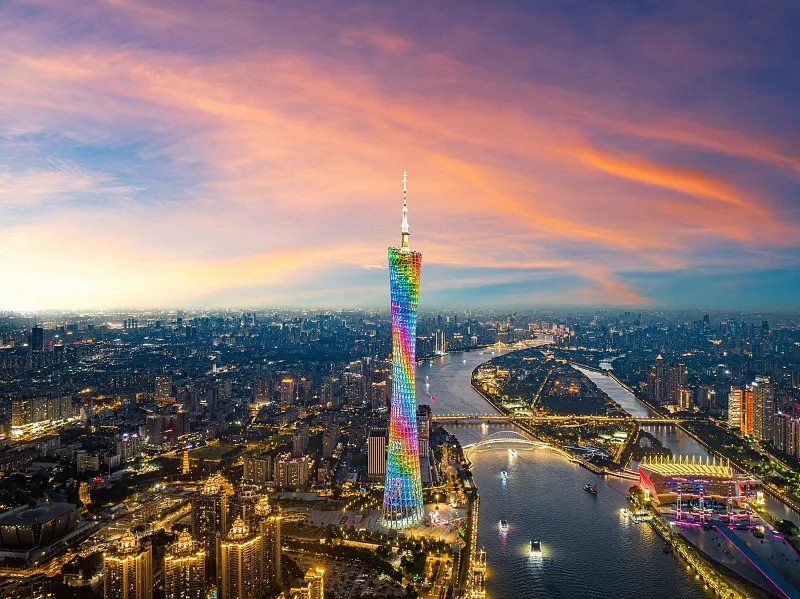Canton: (381, 170, 425, 530)
